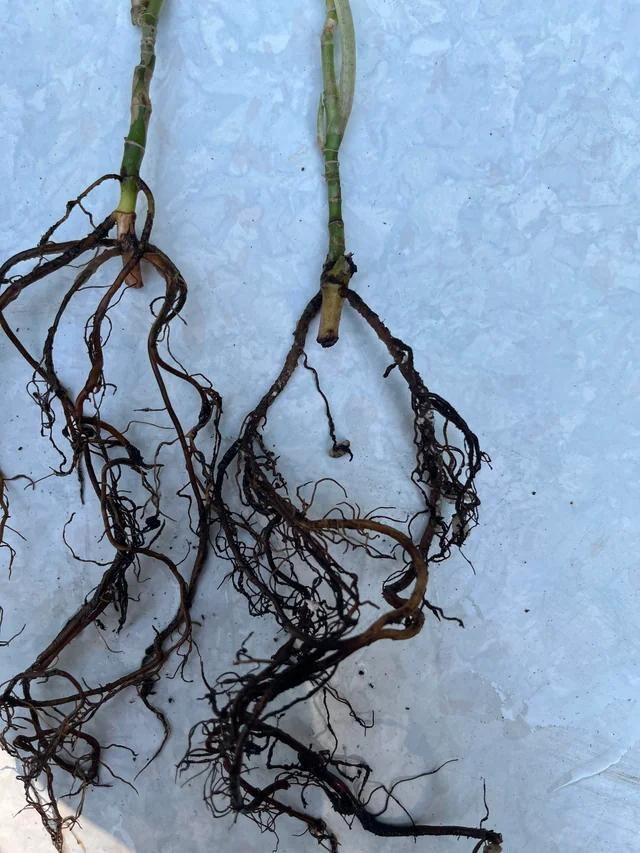root_rot: (40, 17, 573, 853)
